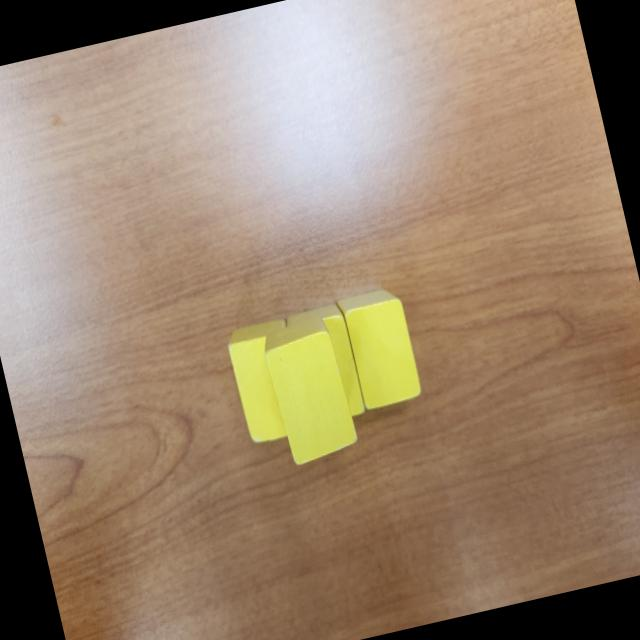yellow: (258, 313, 362, 471), (332, 283, 423, 412), (223, 314, 313, 444), (282, 296, 368, 431)
